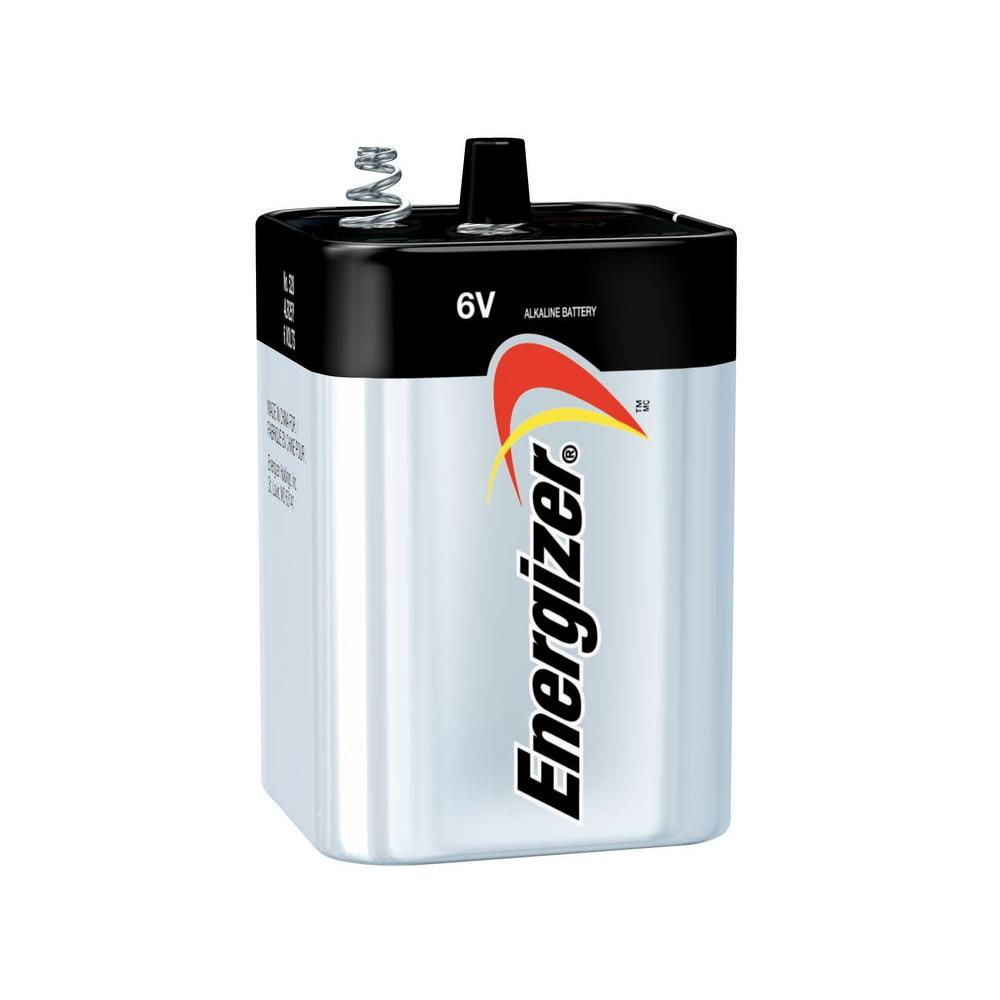6V: (223, 127, 752, 881)
